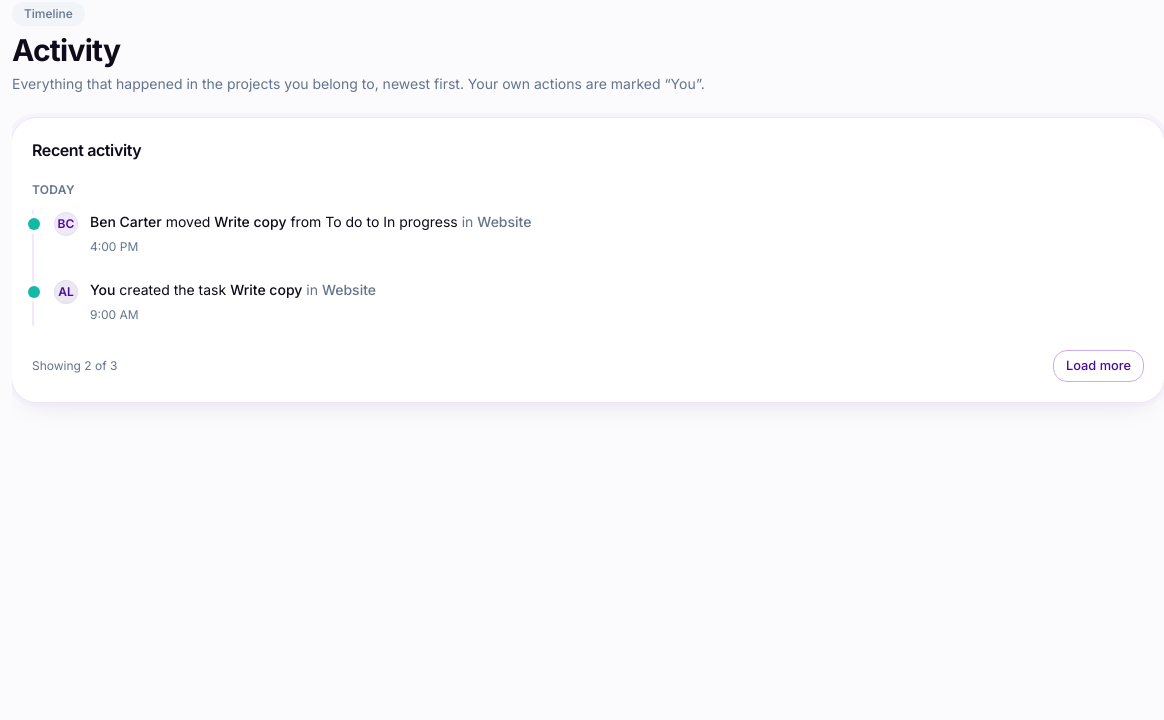
activity page › does not repeat an entry that shifted onto the next page
Click the button "Load more". click: (1098, 366)
box: [1053, 350, 1144, 382]
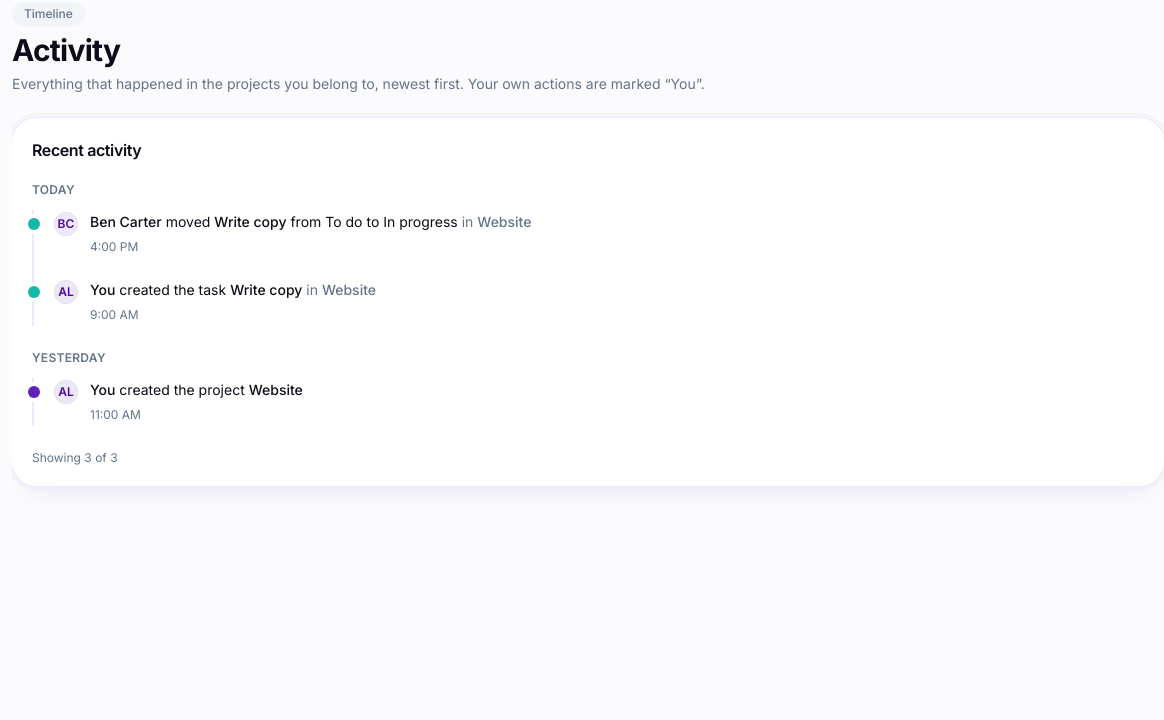
expect the element "Yesterday" is shown: met, box [32, 350, 1144, 426]
expect the text "You created the task Write copy in Website" is shown once: met, box [90, 281, 376, 298]
